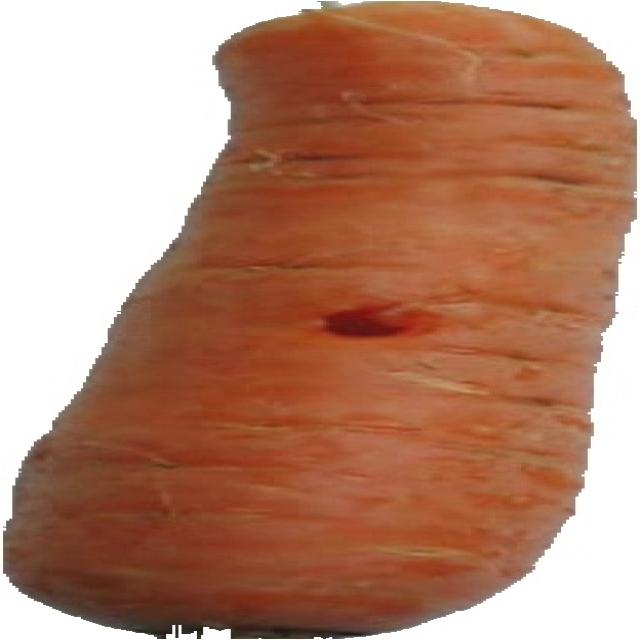carrot: (8, 3, 633, 637)
